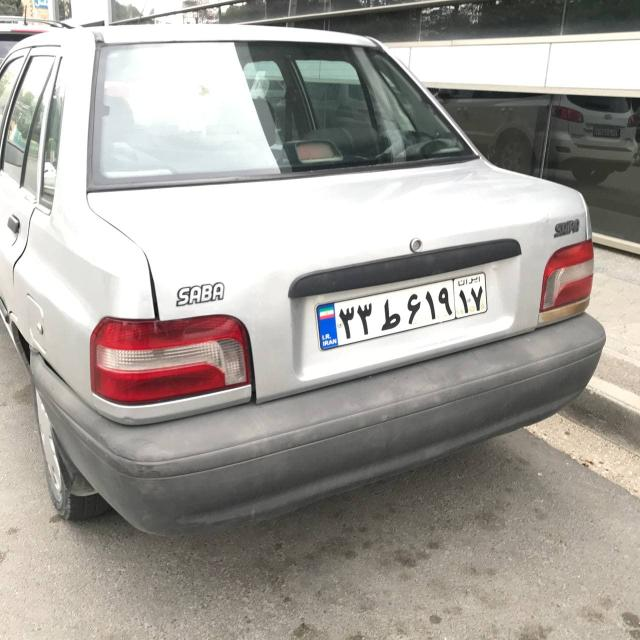Plates: (311, 266, 492, 350)
